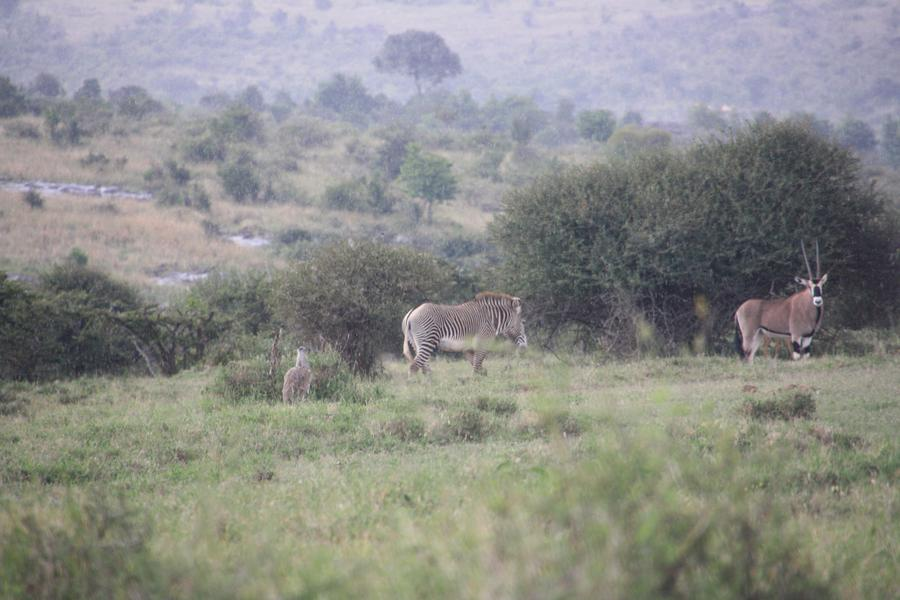zebra_grevys: (405, 295, 499, 343)
